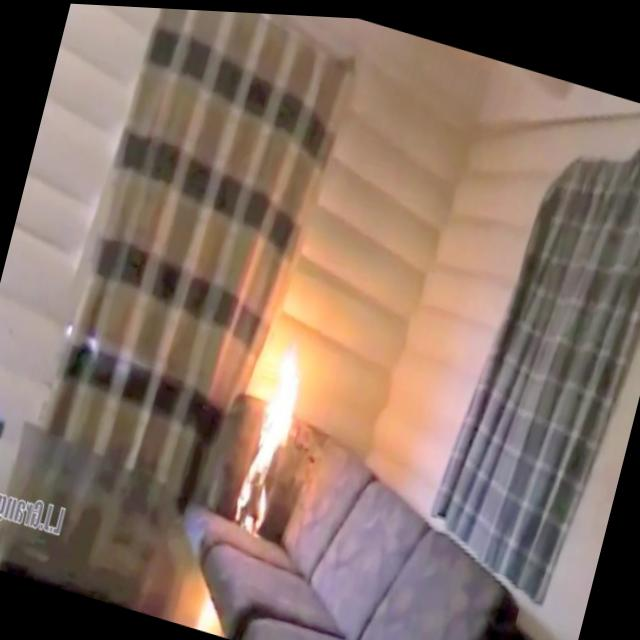fire: (224, 332, 314, 543)
